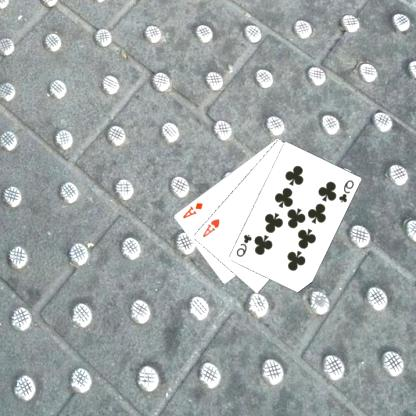9C: (338, 177, 356, 204), (236, 232, 254, 258)
AD: (181, 200, 206, 220)
AH: (201, 216, 223, 239)
